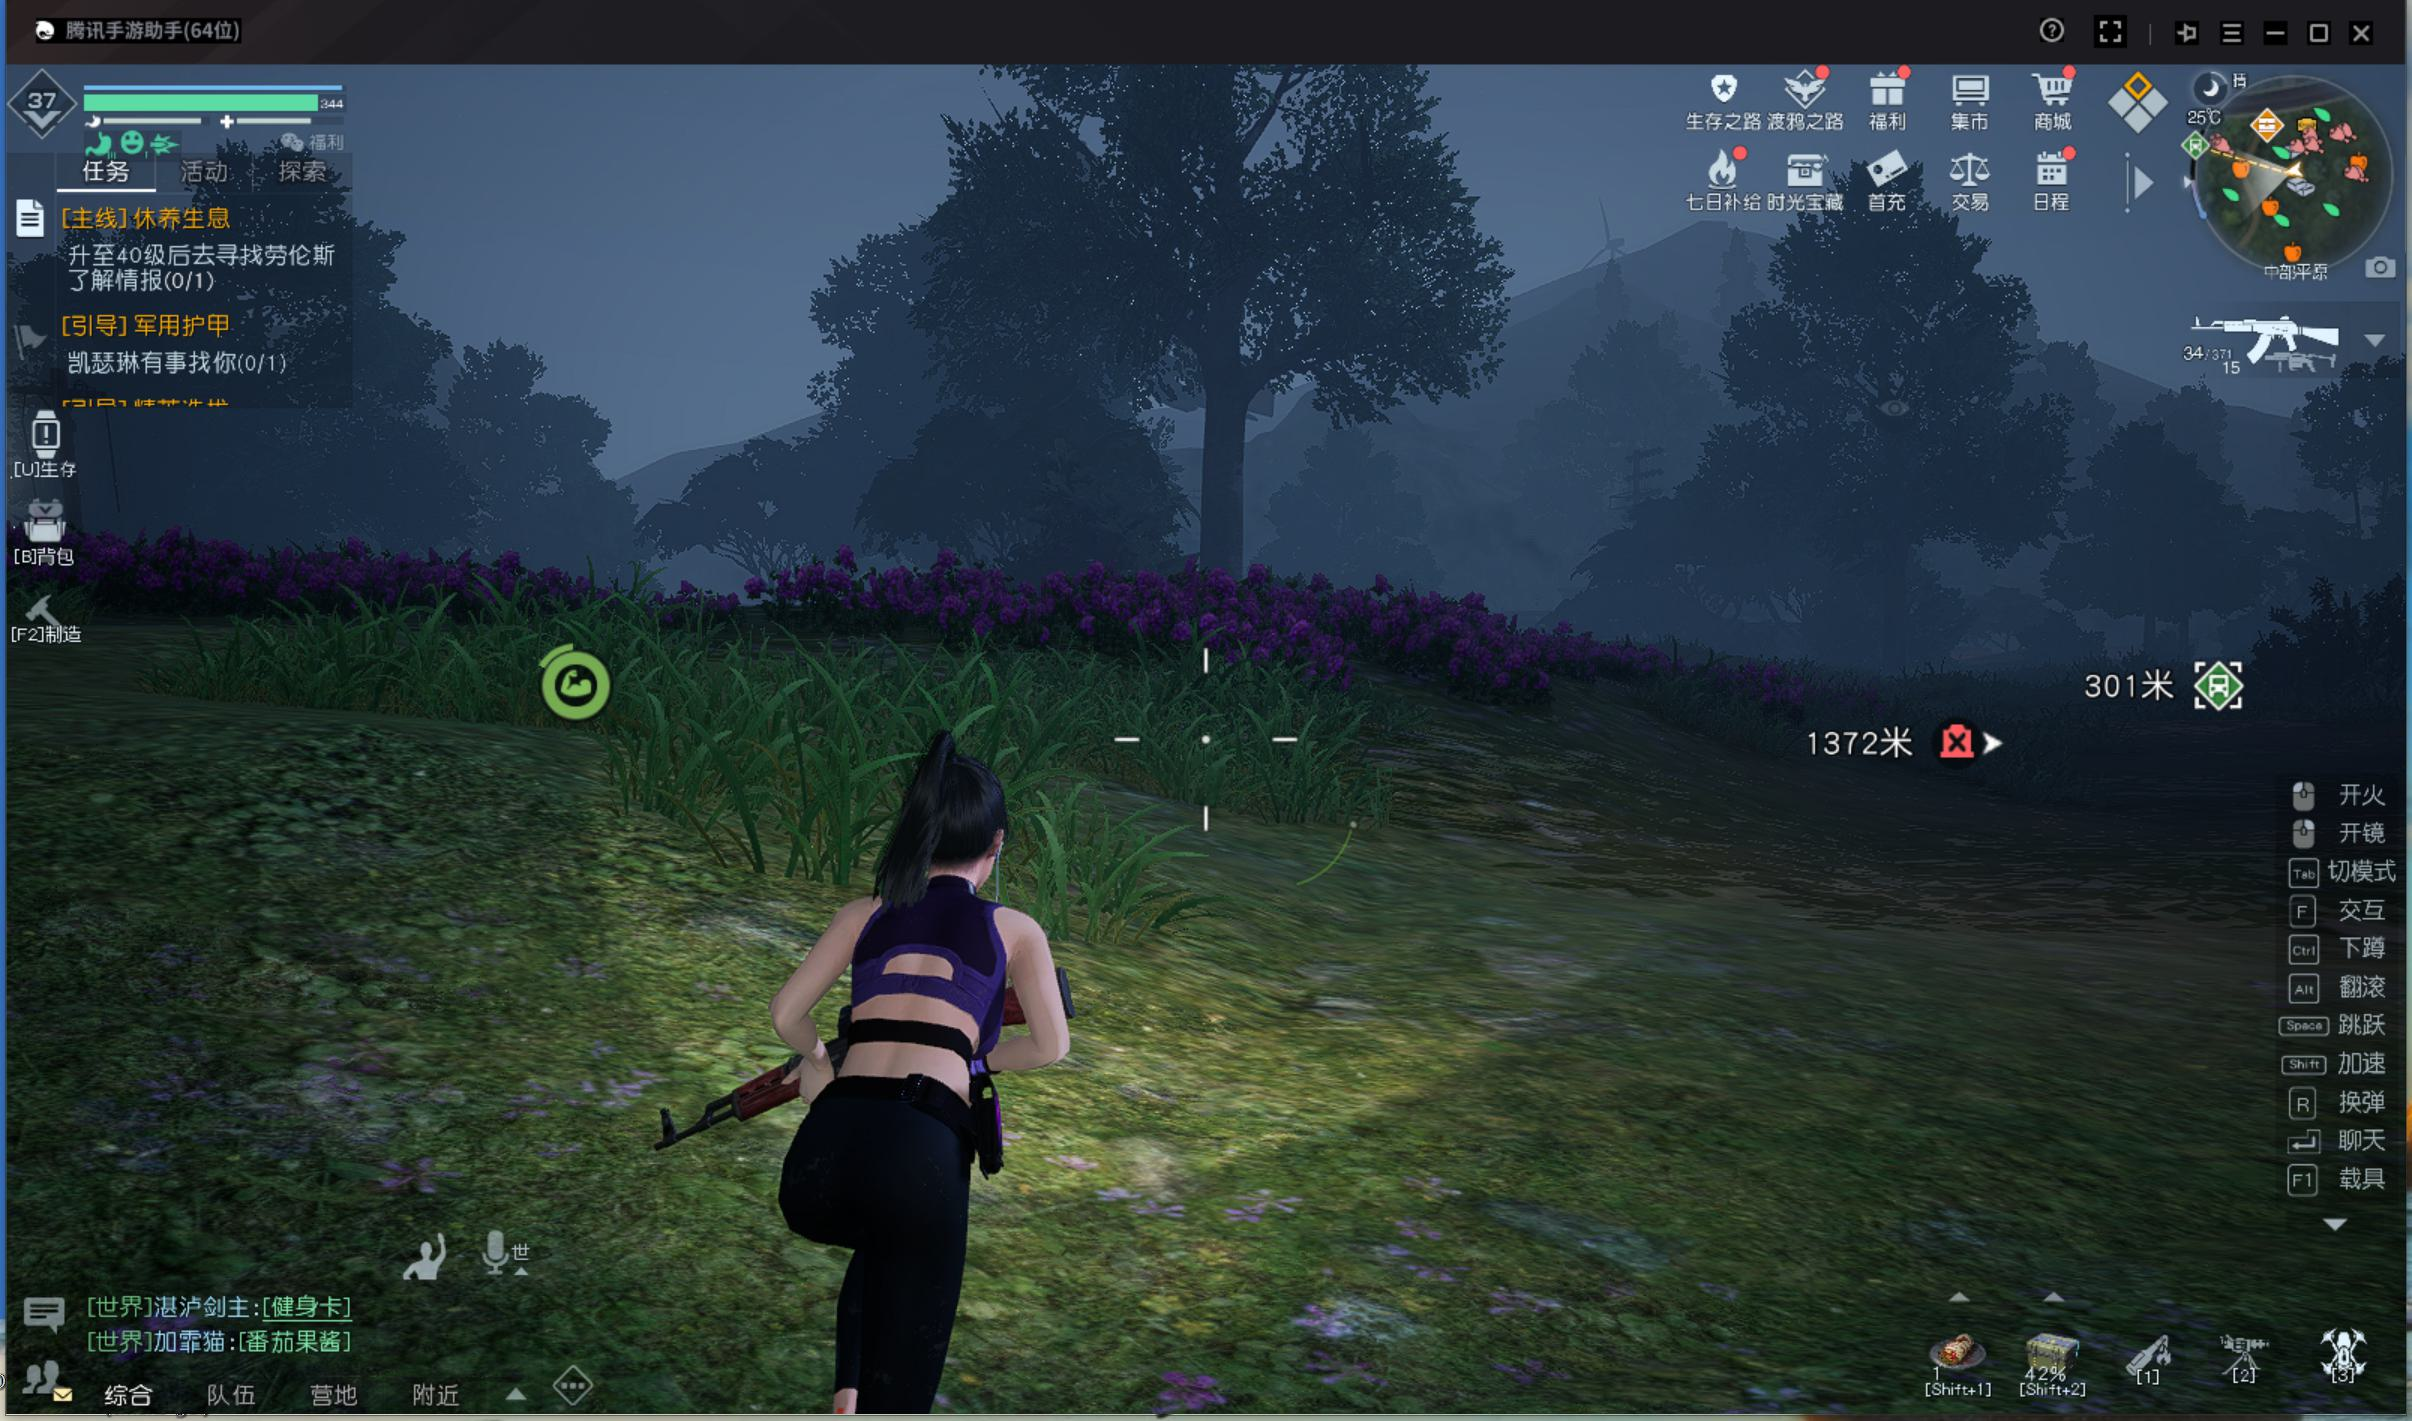tree: (1192, 404, 1255, 602)
